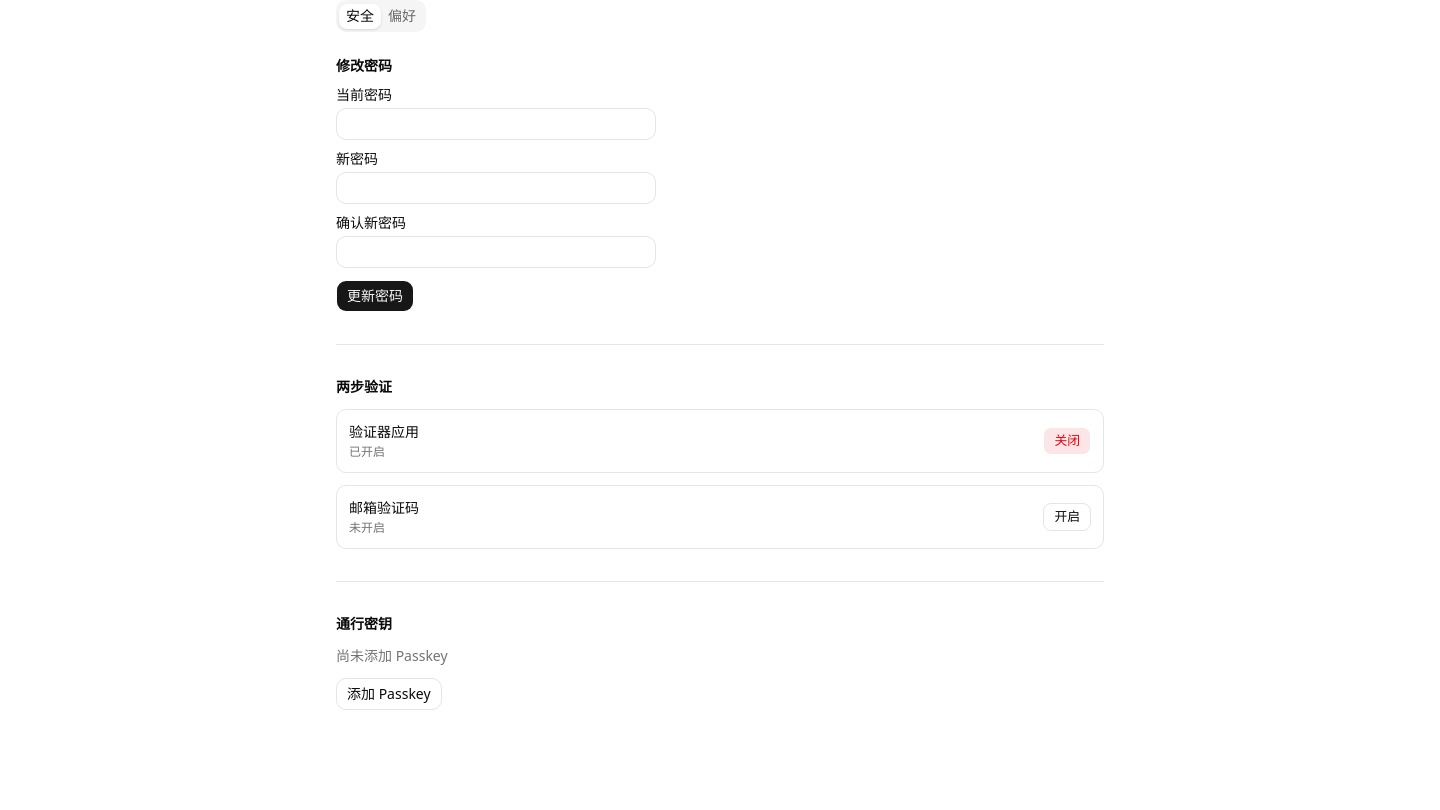
Scenario: 设置页 › 敏感操作密码验证弹窗流 › 关闭 TOTP 弹窗验证流：点动作出弹窗、错密码报错留在弹窗内、对密码动作完成
The image size is (1440, 810).
Expected: the text "已开启" is shown, [349,443,385,460]
1. 点动作出弹窗
Click the button "关闭" at (1067, 441), box [1043,427,1091,455]
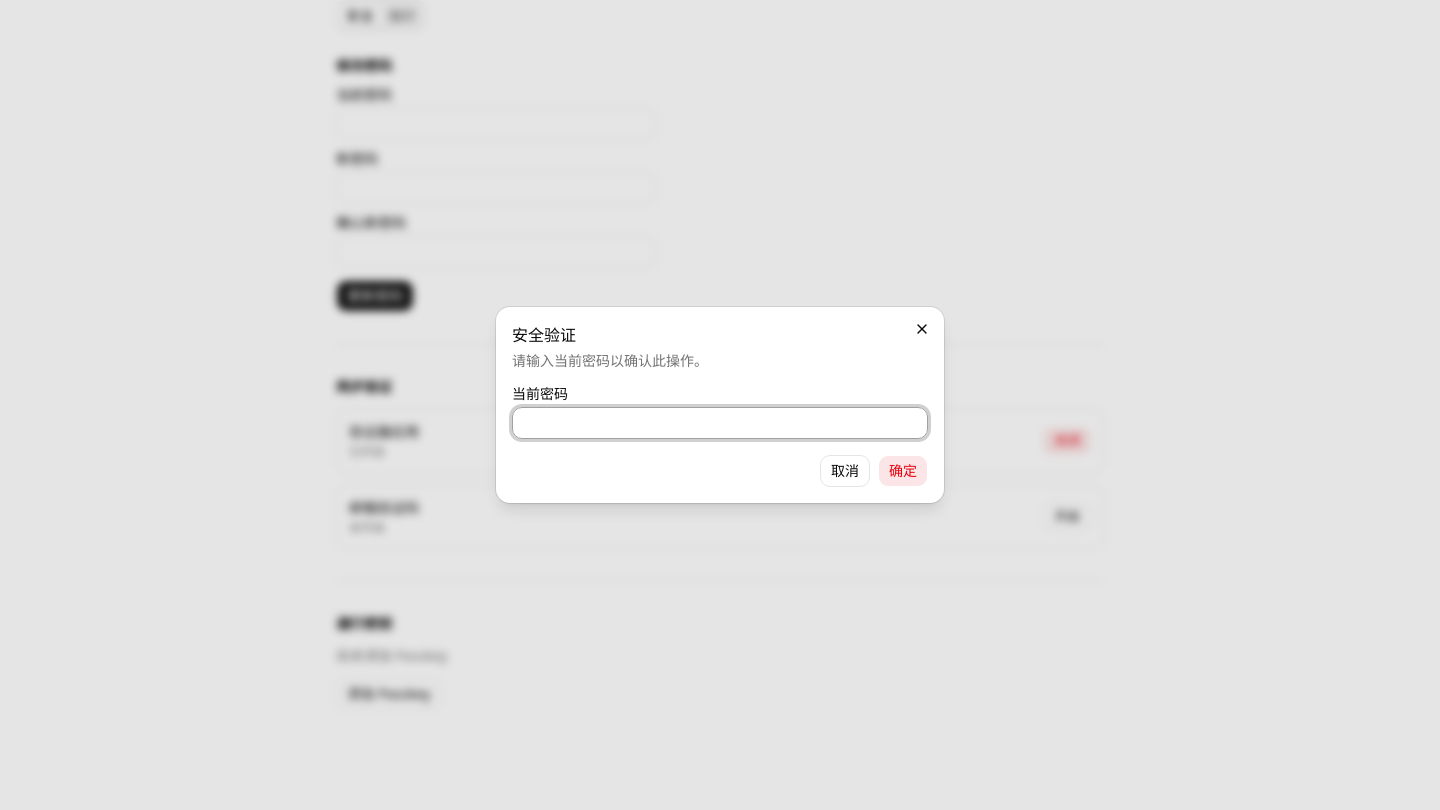
Result: the dialog is shown at [496,307,944,503]
错密码报错留在弹窗内
Type "wrong-password" into the password field labelled "当前密码" at (720, 423), box [512,407,928,439]
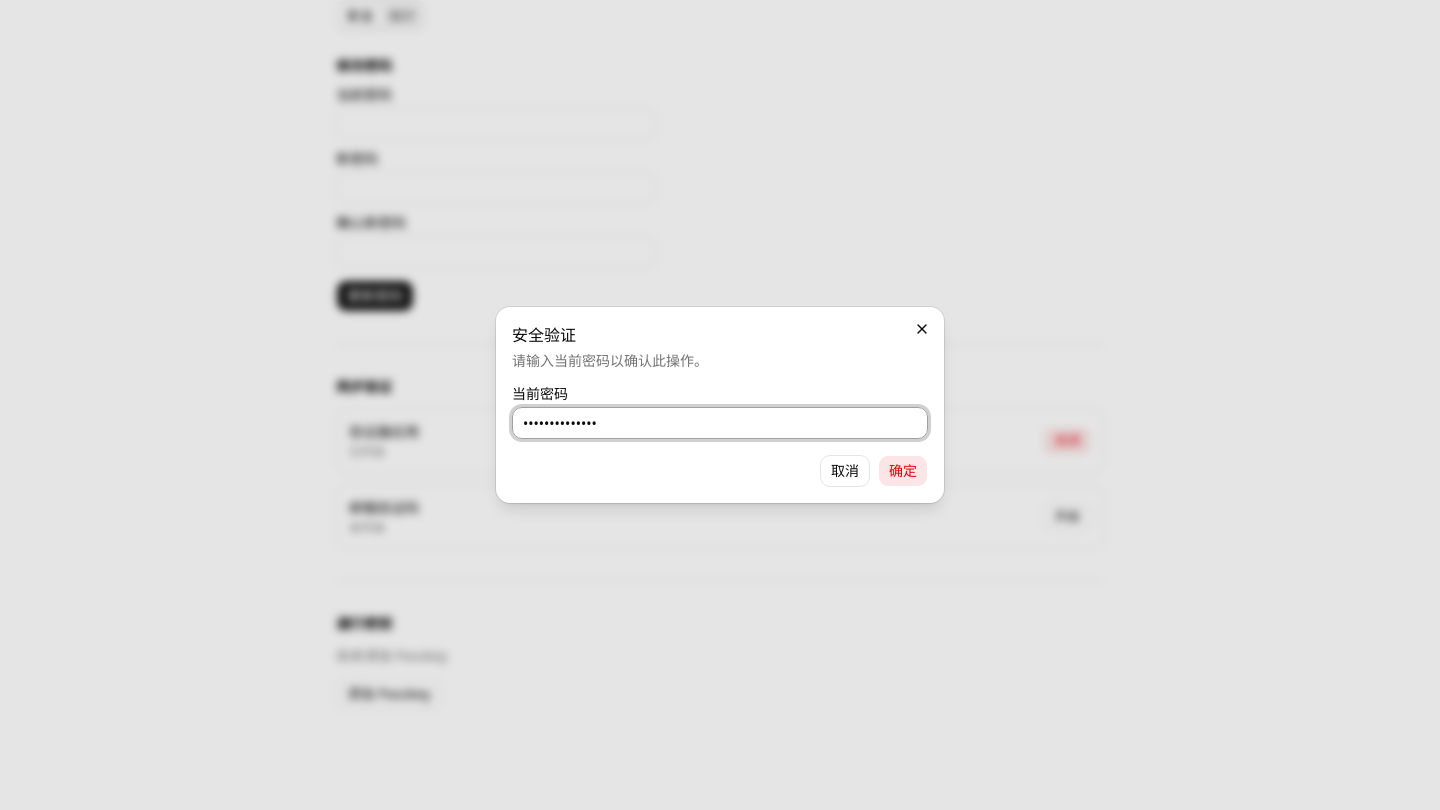
Click the button "确定" at (903, 471), box [878,455,928,487]
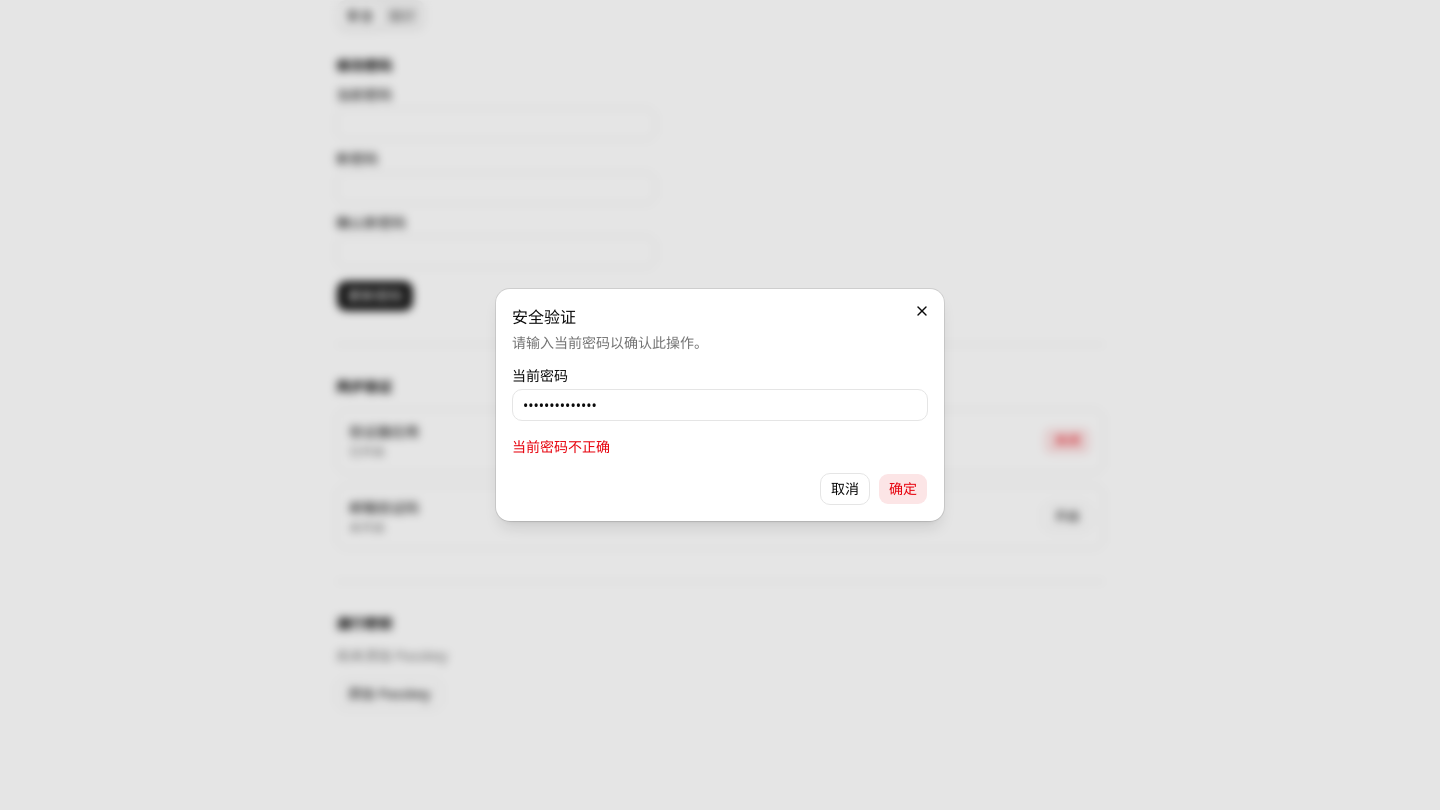
Result: the dialog is shown at [496,289,944,521]
Result: the message reads "当前密码不正确" at [512,437,610,456]
对密码动作完成并关弹窗
Type "correct-password" into the password field labelled "当前密码" at (720, 405), box [512,389,928,421]
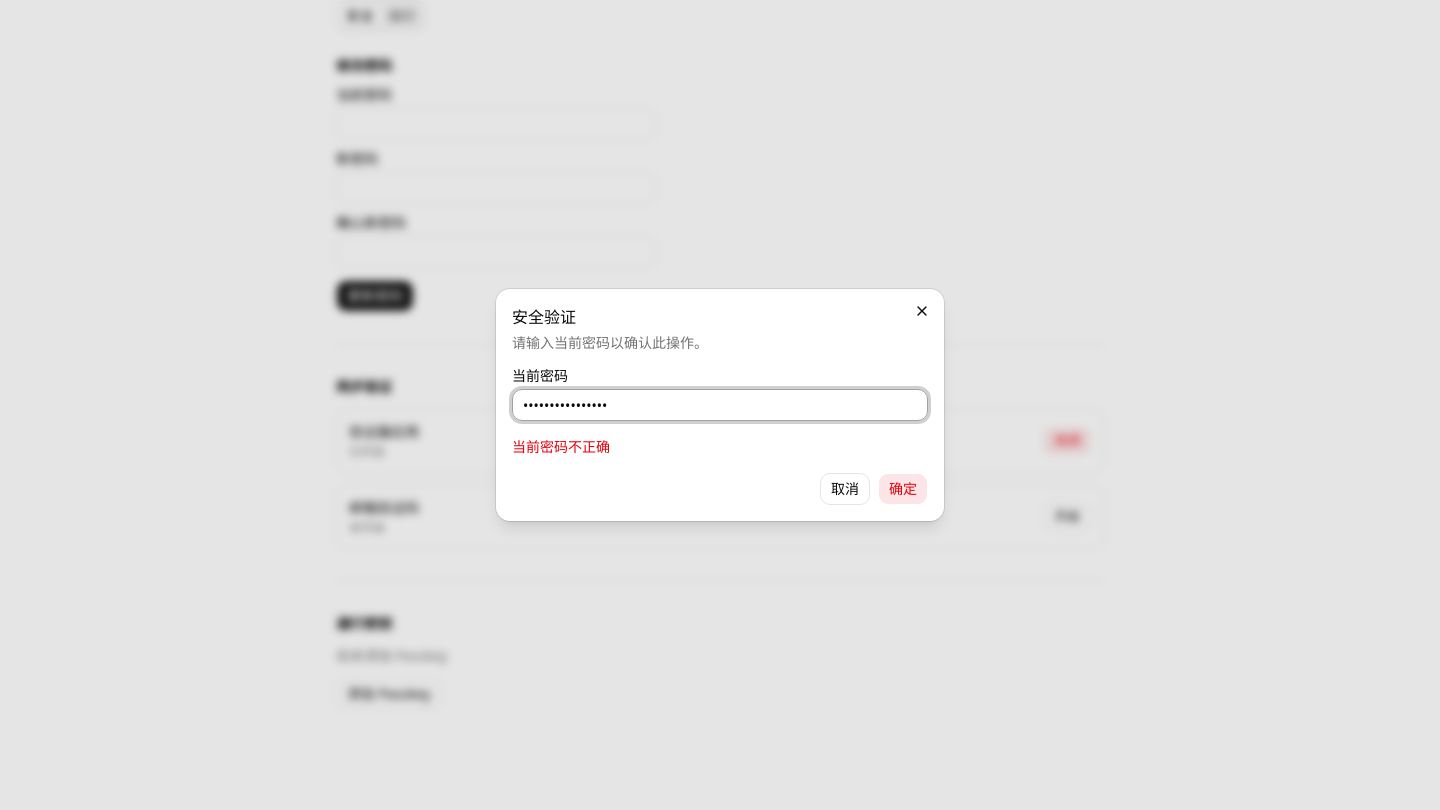
Click the button "确定" at (903, 489), box [878,473,928,505]
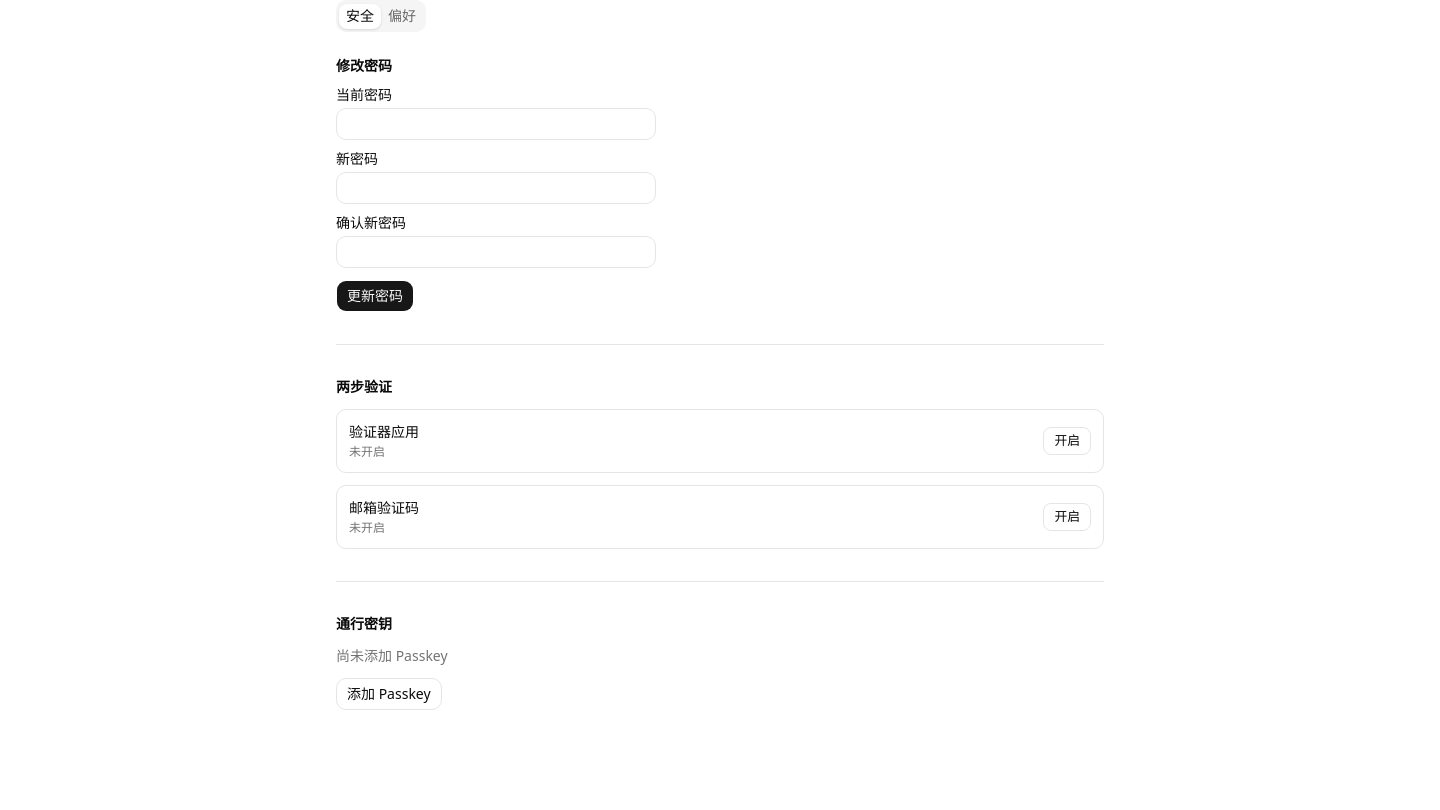
Result: the dialog is gone
